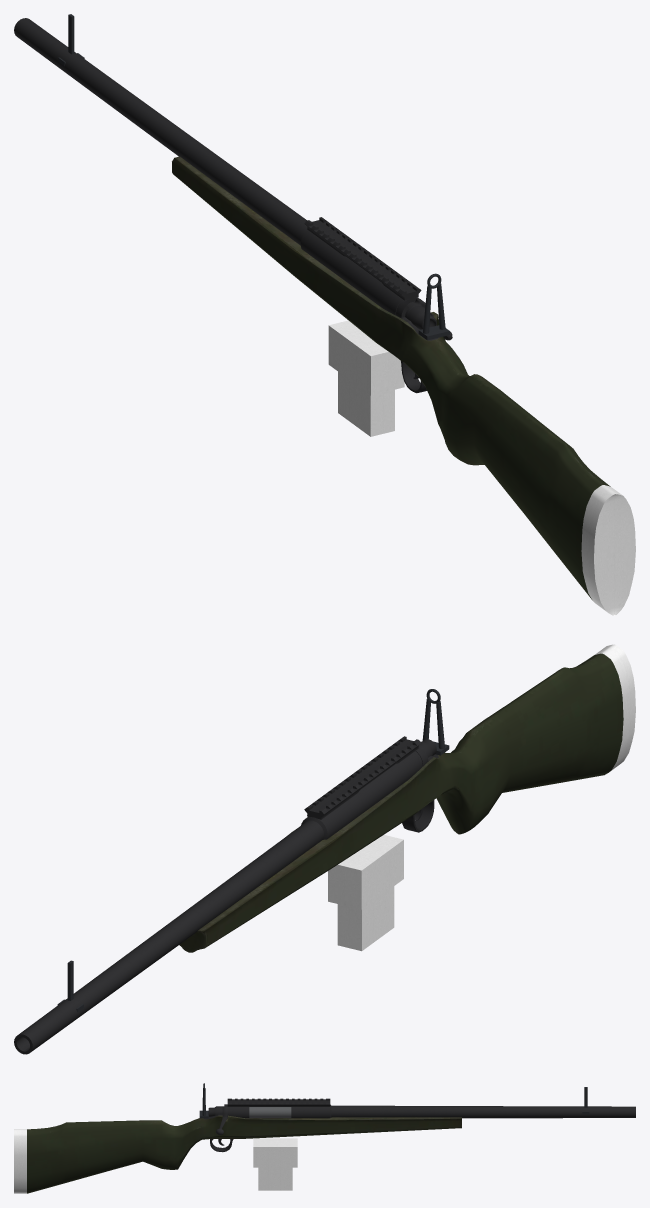
3 renders of one model, top to bottom at view 1: azimuth 30°, elevation 25°; view 2: azimuth 150°, elevation 25°; view 3: azimuth 270°, elevation 25°, orthographic. The views are drawn at different scales.
Visible parts, largest first — view 1: body, mag, rearsight; view 2: body, mag, rearsight; view 3: body, mag, bolt.
Part boxes in pixels (bbox=[...]): body: bbox=[14, 14, 635, 615]; mag: bbox=[338, 372, 394, 436]; rearsight: bbox=[418, 273, 449, 340]; body: bbox=[14, 644, 635, 1054]; mag: bbox=[337, 886, 394, 951]; rearsight: bbox=[422, 689, 449, 755]; body: bbox=[14, 1087, 635, 1193]; mag: bbox=[258, 1167, 292, 1190]; bolt: bbox=[208, 1106, 291, 1134].
Size of the model in its own units: 0.0569 by 0.2134 by 1.09.
7 materials, 7 textured.
